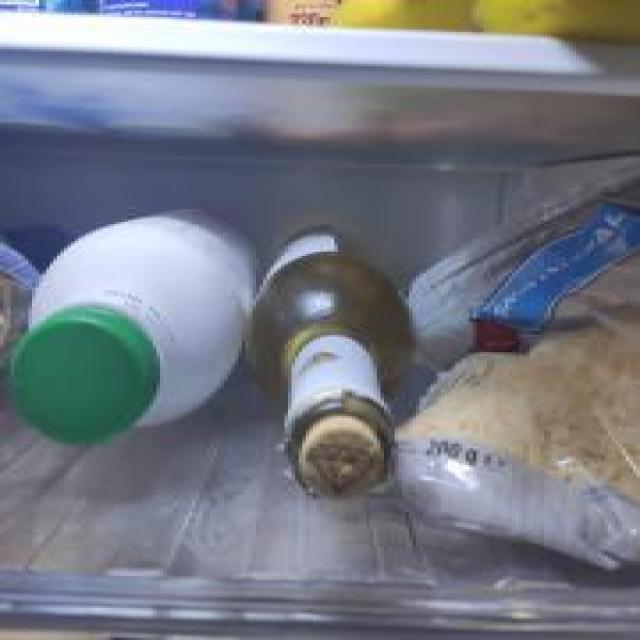grated_cheese: (373, 325, 640, 571), (402, 158, 640, 373)
milk: (7, 207, 263, 448)
